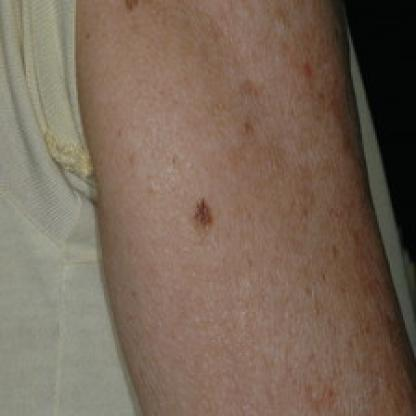Skin_Cancer-Malignant: (193, 193, 216, 236)
